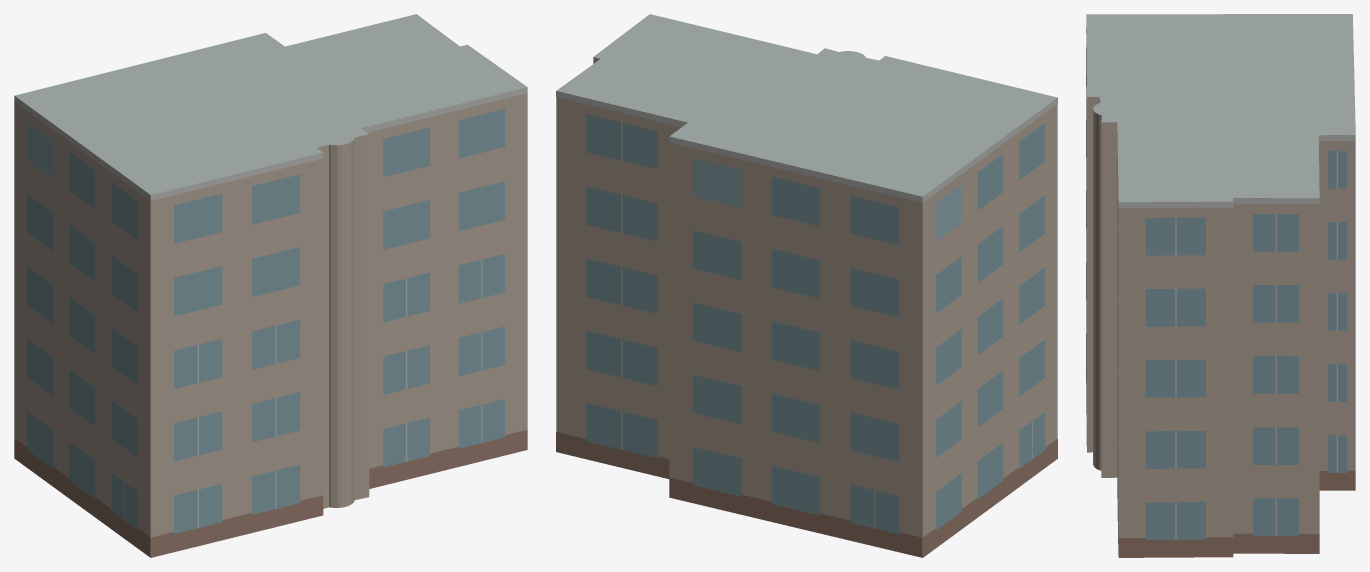
Rendered from survey-upis-32627305.glb.
3 renders of one model, left to right at view 1: azimuth 30°, elevation 25°; view 2: azimuth 150°, elevation 25°; view 3: azimuth 270°, elevation 25°, orthographic. The views are drawn at different scales.
Parts seen in each view (by area): view 1: survey-upis-32627305.tmp; view 2: survey-upis-32627305.tmp; view 3: survey-upis-32627305.tmp.
Part boxes in pixels (x1,y1,x2,y2): survey-upis-32627305.tmp: (14,14,527,557); survey-upis-32627305.tmp: (556,14,1057,557); survey-upis-32627305.tmp: (1086,14,1355,557).
Size of the model in its own units: 16.48 by 14.5 by 9.98.
